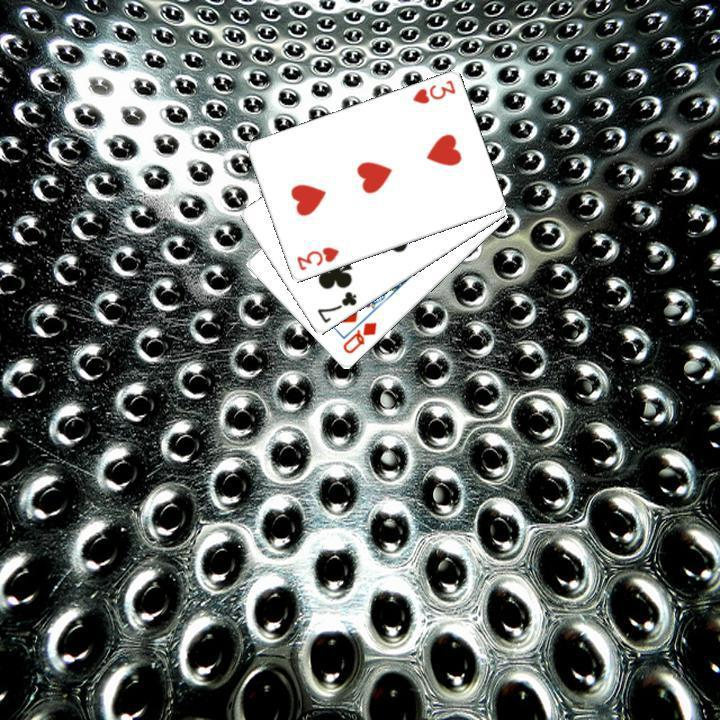3: (292, 243, 341, 273), (408, 76, 457, 106)
7: (313, 287, 359, 325)
Q: (338, 318, 379, 356)
